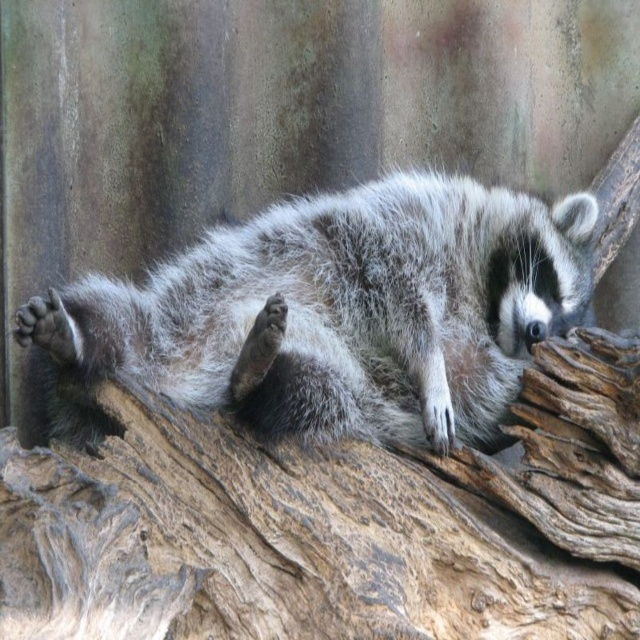Raccoon: (4, 146, 607, 459)
